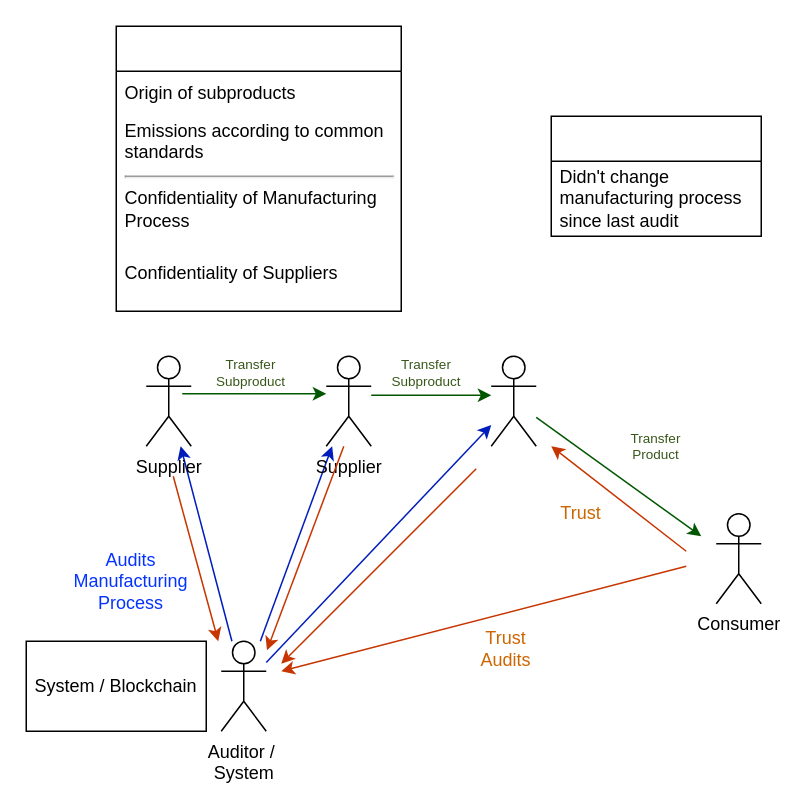
The diagram is 806 pixels wide and 812 high, and some of its shapes have lost their labels. The shapes that lost their labels are listed below. From the top down, each one's box as (x1, y1, x2, y2) in pixels, then its label:
(115, 25, 401, 311): Provided Trust by the System
(550, 115, 761, 236): Trusted Elements
(490, 355, 536, 446): OEM
